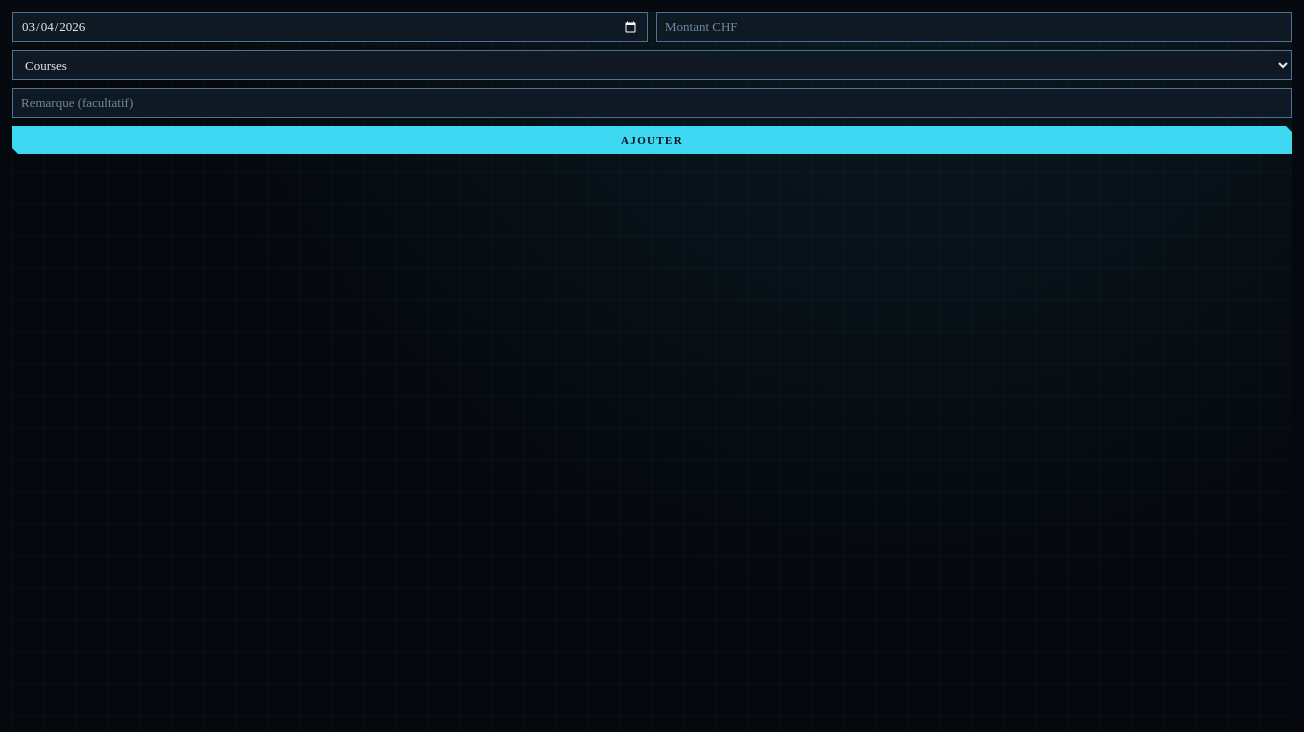
Test: QuickAdd › échec de l'API: message d'erreur affiché, router.refresh non appelé
Type "12,5" into the field named "Montant en CHF".
click(974, 27); type("12,5")  # box x1=656 y1=12 x2=1292 y2=42
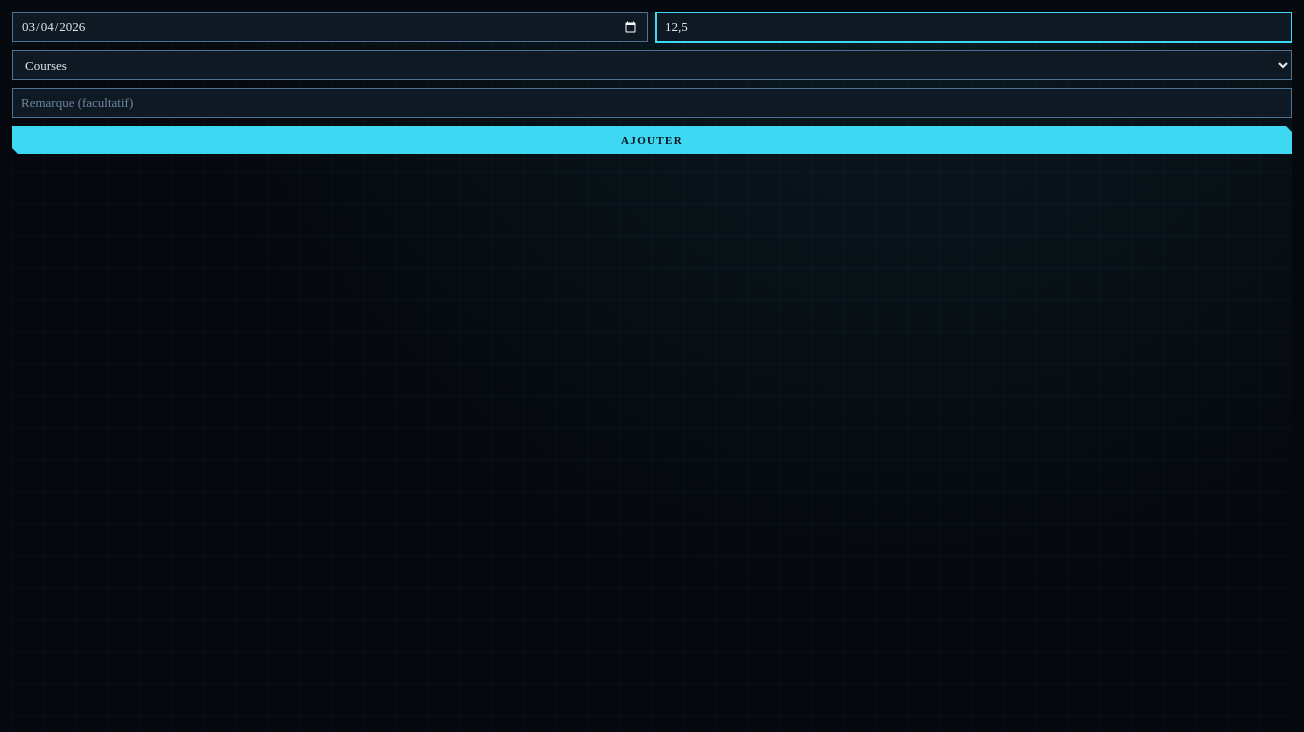
Click the button "Ajouter".
click(652, 140)  # box x1=12 y1=126 x2=1292 y2=154
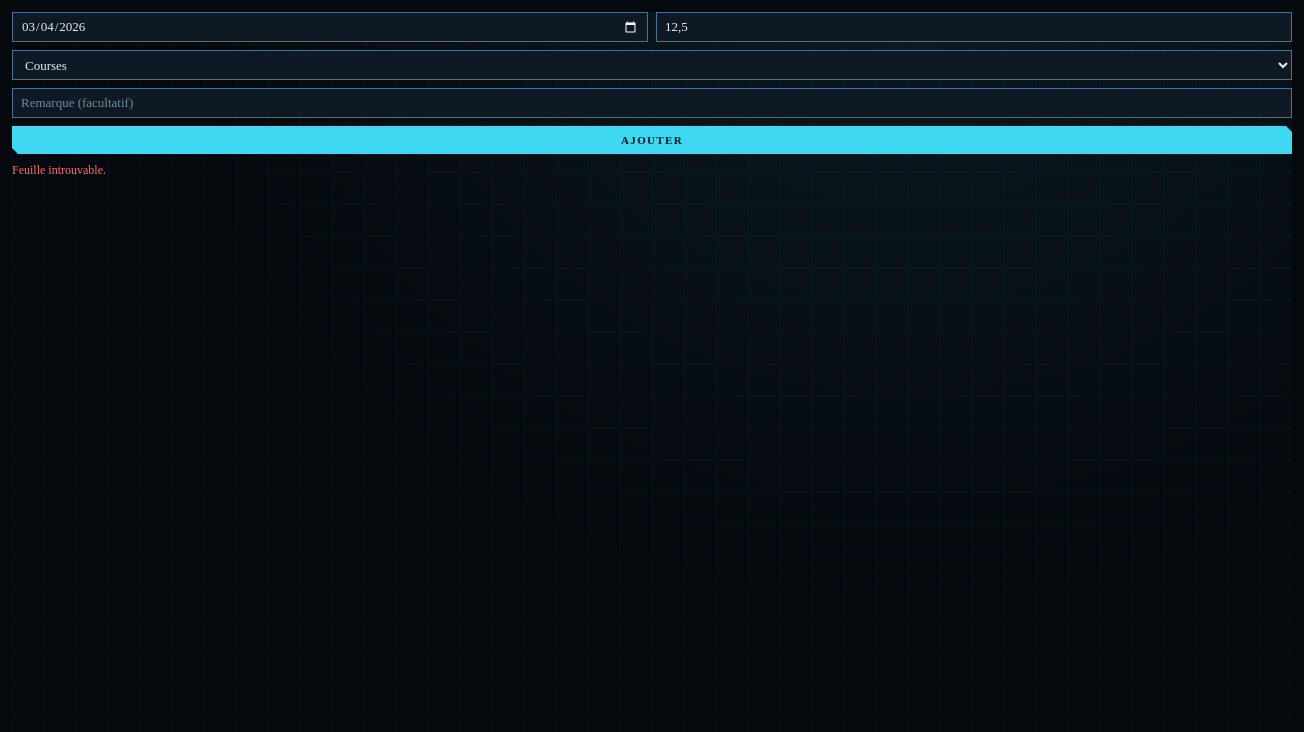
Result: the message reads "Feuille introuvable." at x1=12 y1=163 x2=106 y2=177
